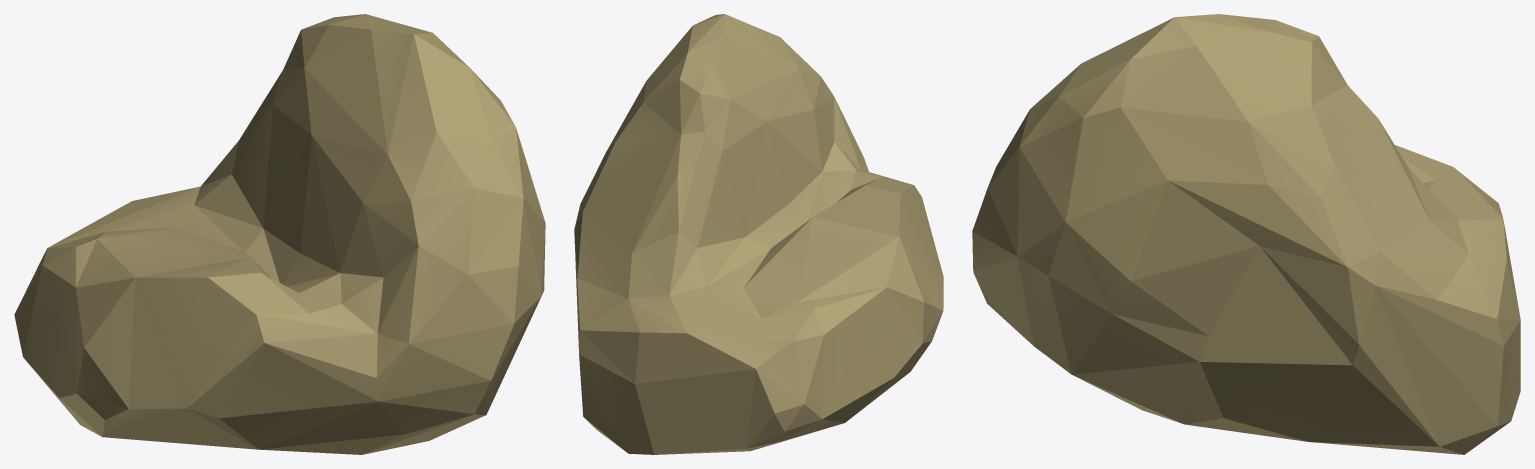
File: SM_rock_45.fbx
3 views of the same model, side by side, from view 1: azimuth 30°, elevation 25°; view 2: azimuth 150°, elevation 25°; view 3: azimuth 270°, elevation 25° (orthographic). The views are drawn at different scales.
Parts seen in each view (by area): view 1: rock_45; view 2: rock_45; view 3: rock_45.
Boxes of the visible parts, x1,y1,x2,y2 form: rock_45: [14, 14, 545, 454]; rock_45: [574, 14, 943, 454]; rock_45: [972, 14, 1520, 454].
Bounding box in the file's own units: 120 × 127 × 146.
